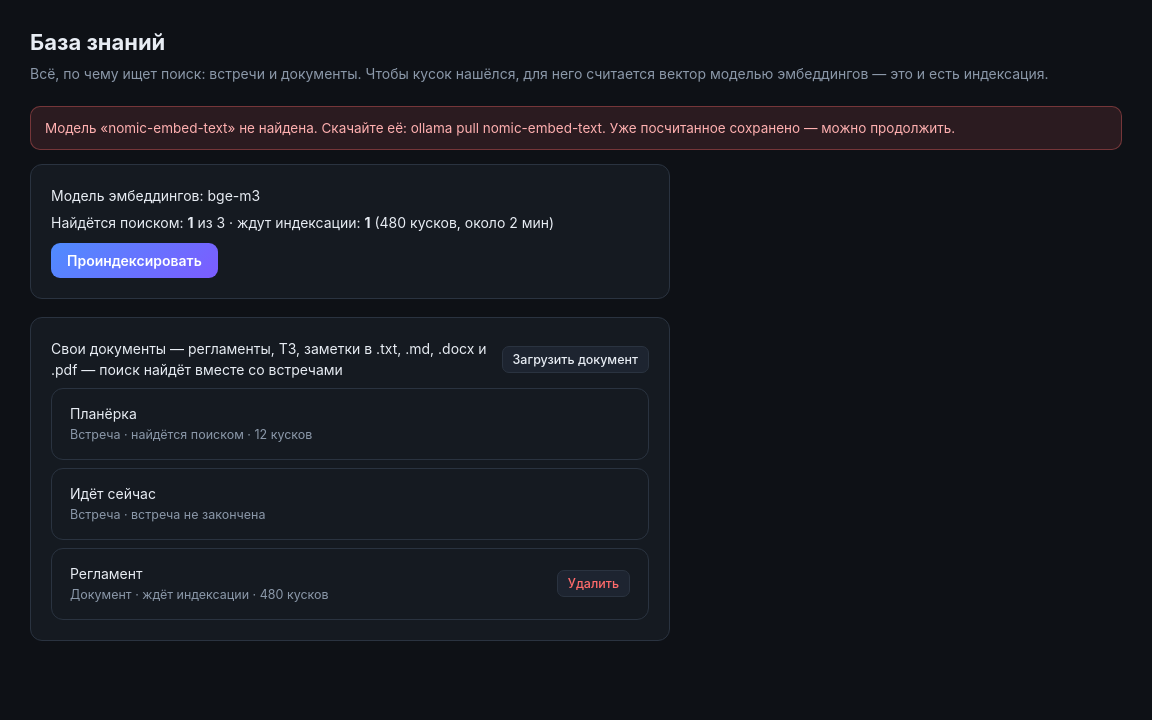
Test case: экран базы знаний › ошибка говорит, что посчитанное сохранено, и даёт продолжить
What coordinates should you click on to do the following:
click the button "Проиндексировать"
I would click on:
 (134, 261)
Its box is 51,243 -> 218,278.
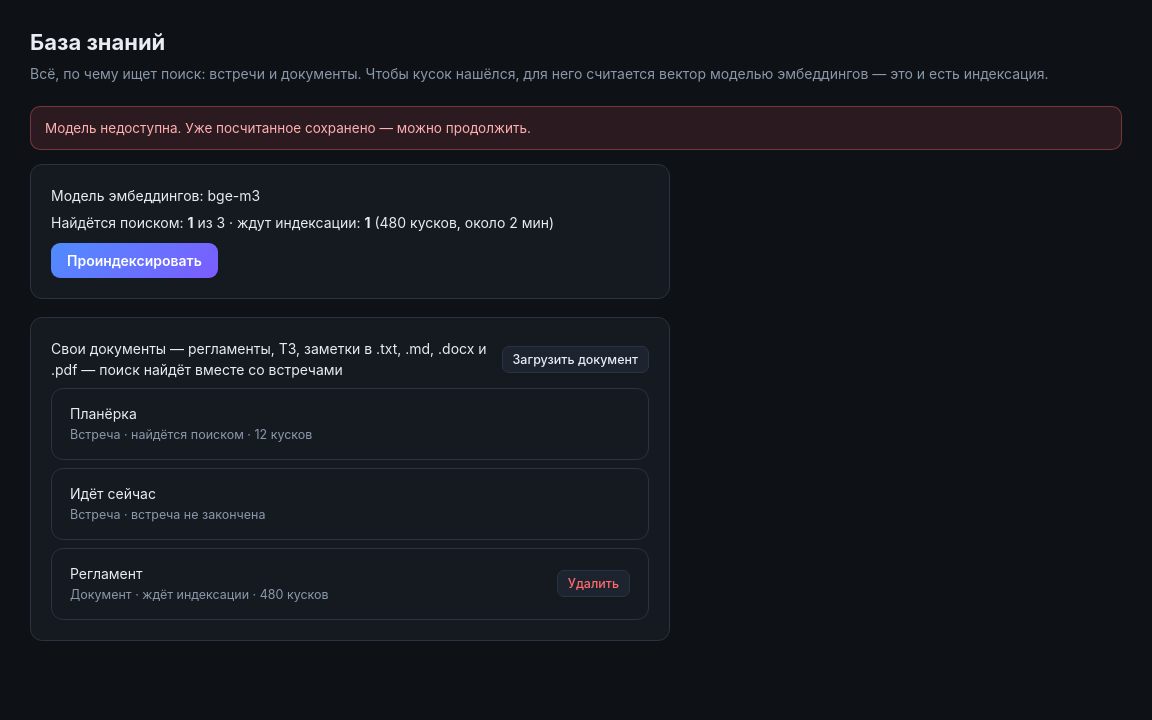
Now the text with class "error" reads "Модель недоступна. Уже посчитанное сохранено — можно продолжить.", box 45,120 -> 531,136
